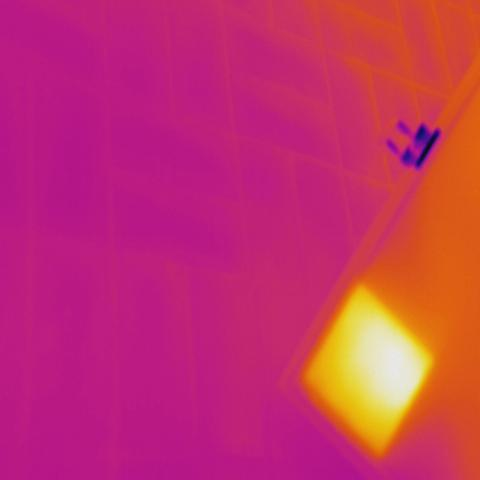fault: (292, 279, 441, 469)
